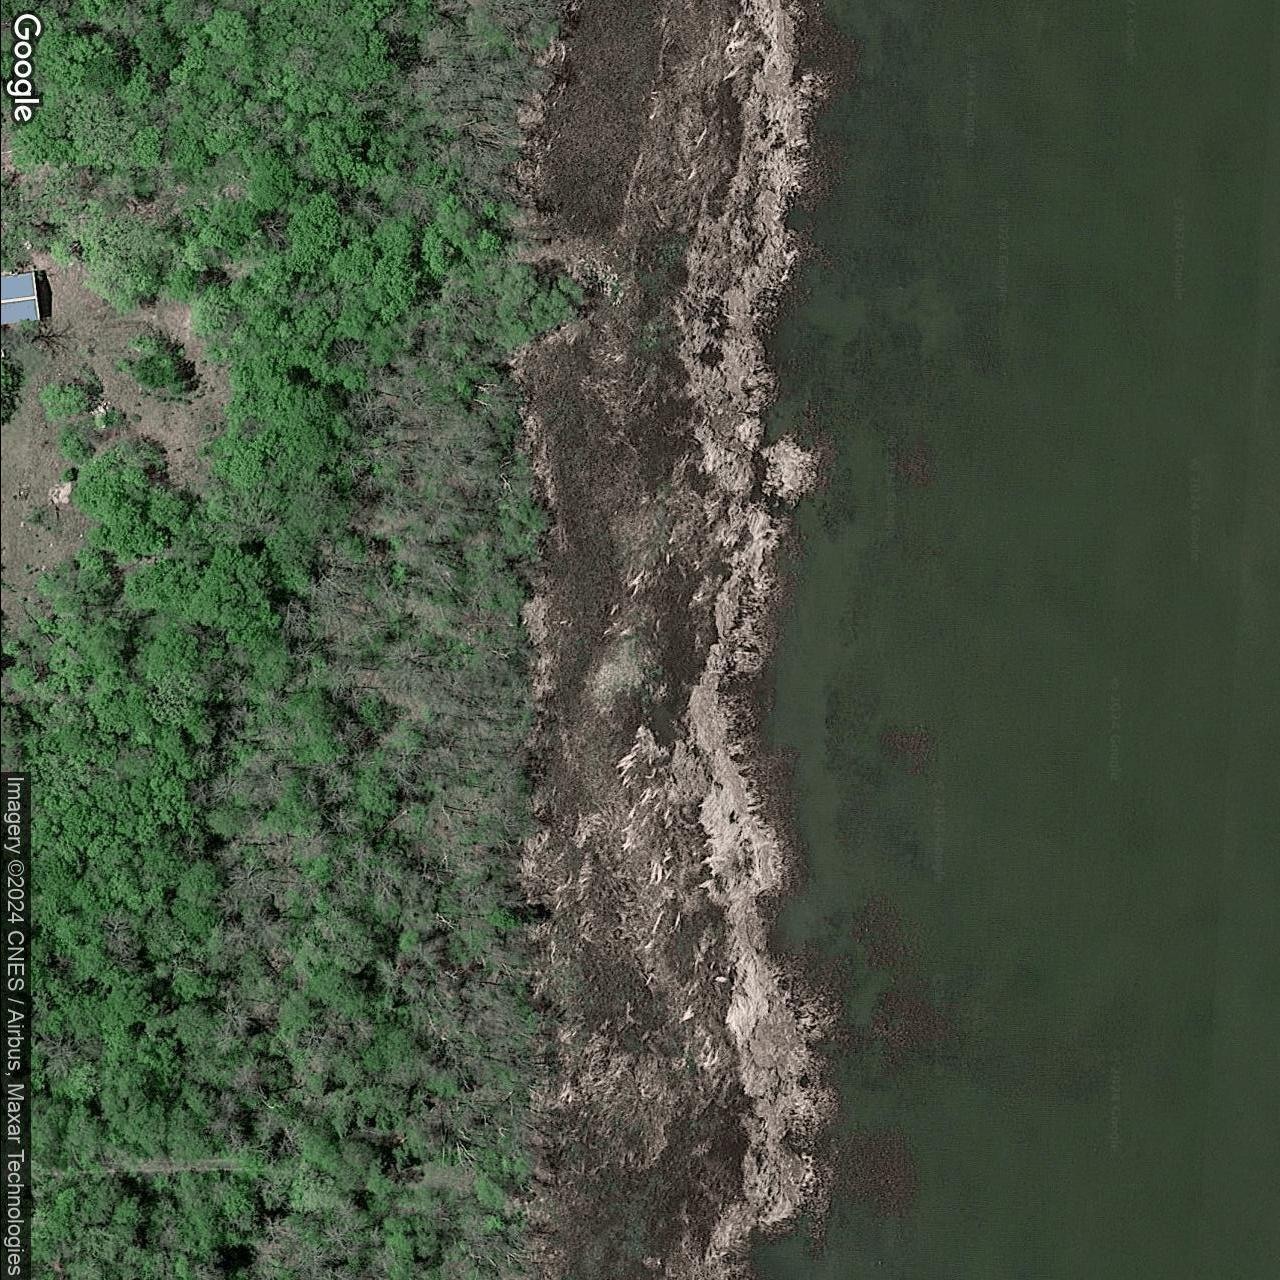House: (0, 271, 40, 326)
